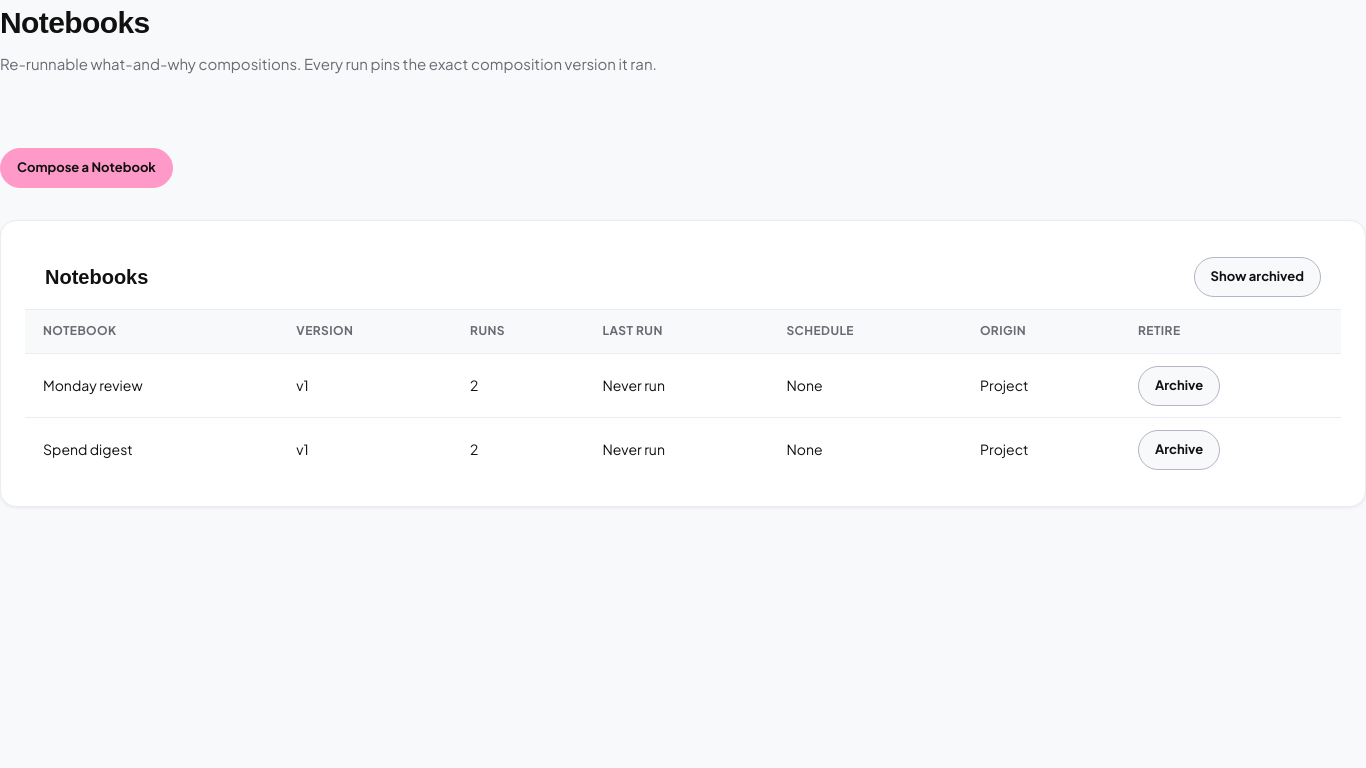
Test: archives a Notebook on confirm and re-reads the list
This screenshot has width=1366, height=768.
Click the button with test id "archive-notebook-nb_A" at (1179, 386), box [1138,366,1220,406]
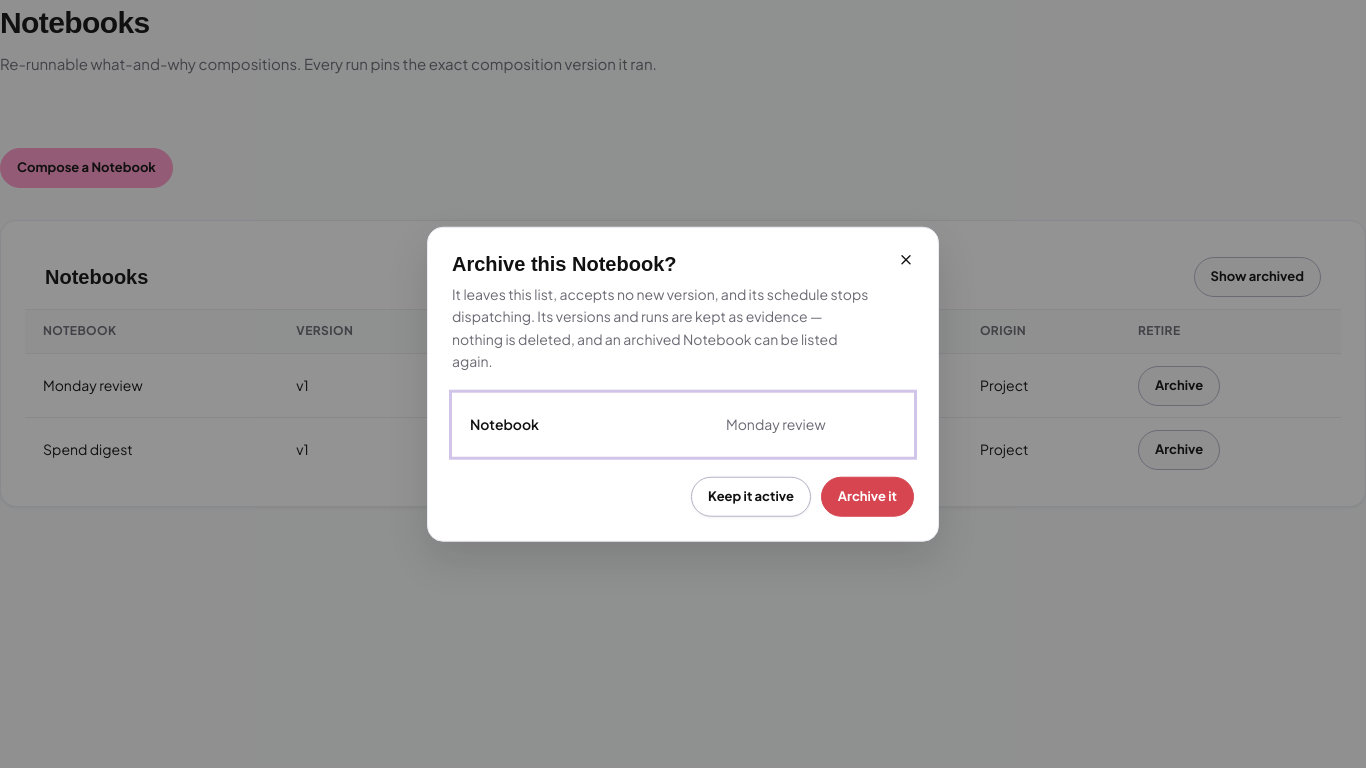
Click the button "Archive it" at (867, 496), box [821,476,914,516]
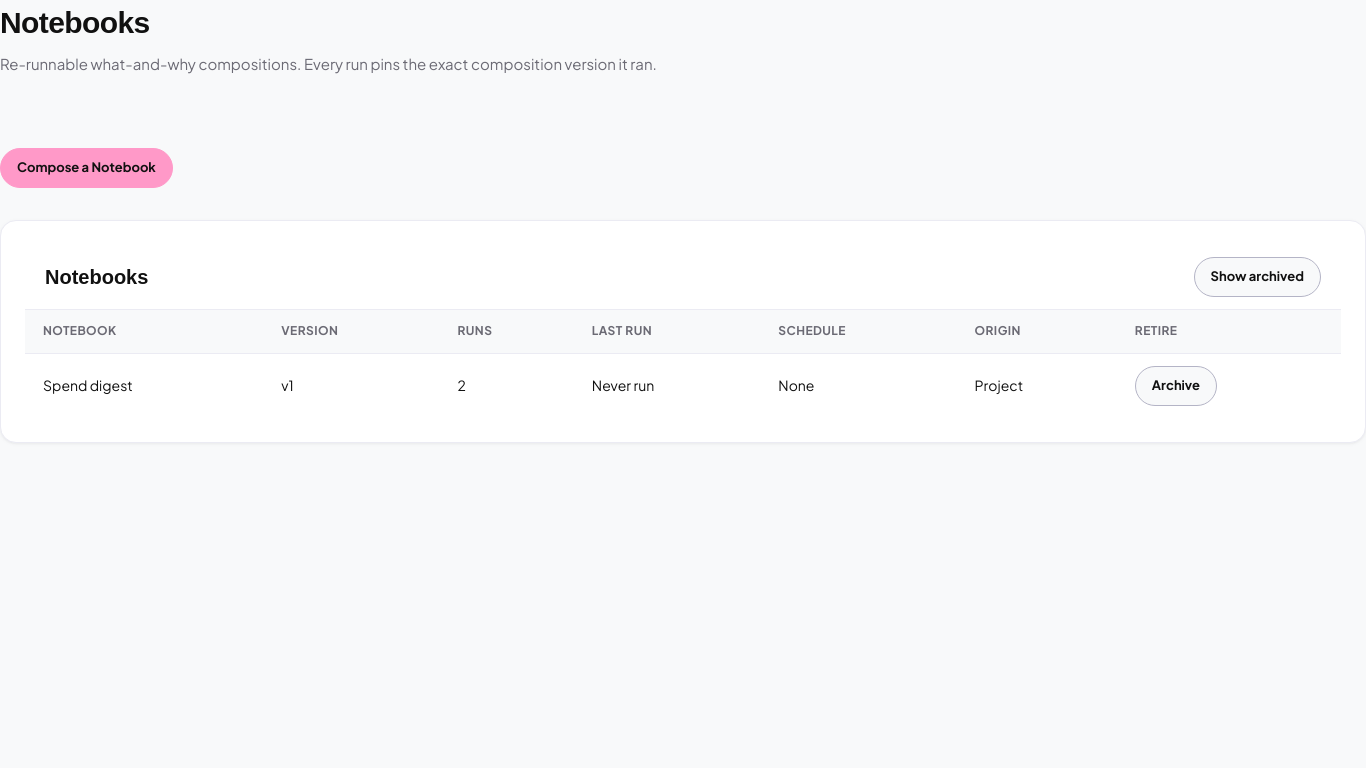
Expected: the button with test id "archive-notebook-nb_B" is shown, [1135,366,1217,406]
Expected: the button with test id "archive-notebook-nb_A" is gone
